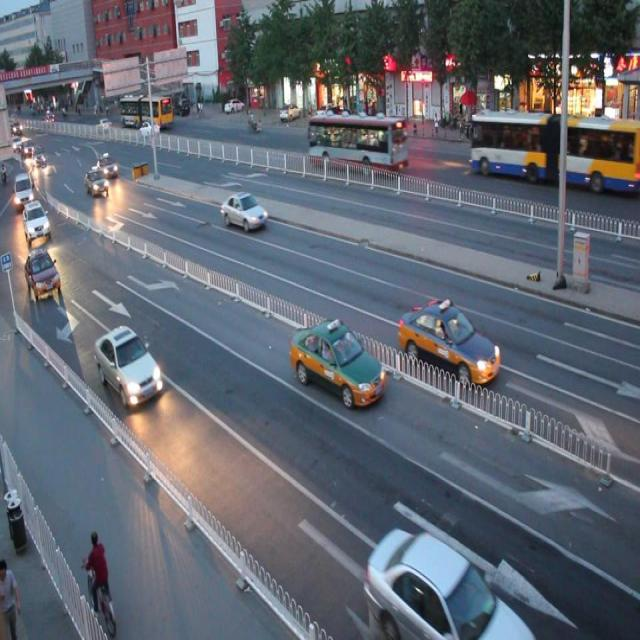car: (364, 526, 532, 640), (398, 300, 499, 384), (290, 319, 384, 405), (94, 321, 162, 407), (220, 190, 266, 232)
van: (468, 106, 640, 194), (307, 114, 408, 174)
